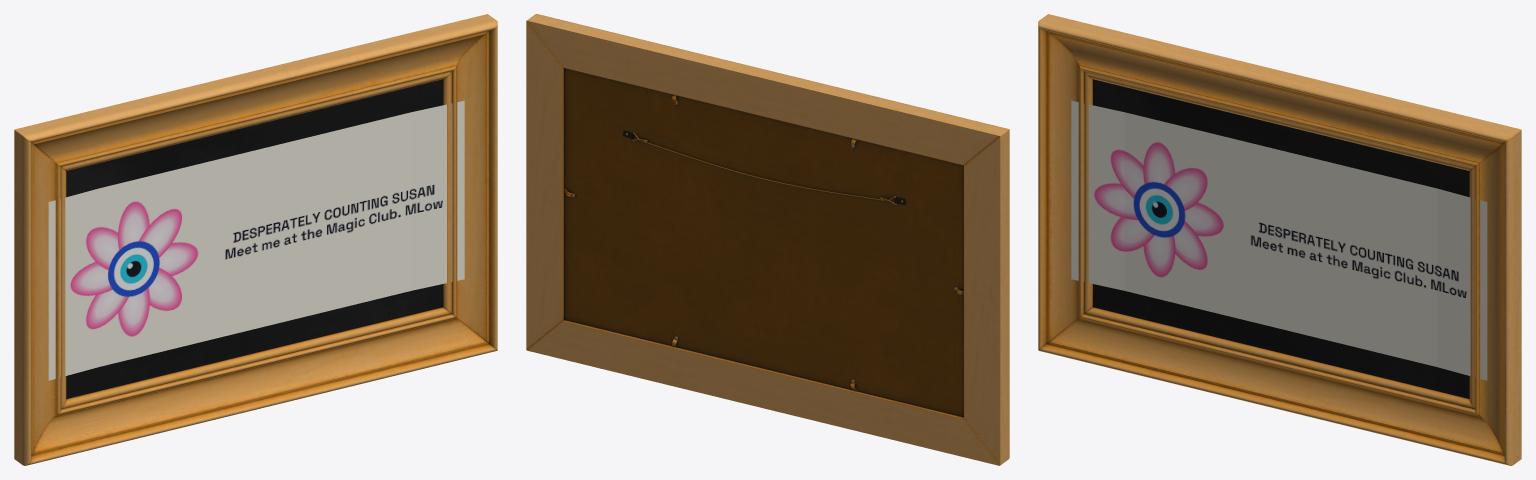
File: nyb_susan_ad.glb
3 renders of one model, left to right at view 1: azimuth 30°, elevation 25°; view 2: azimuth 150°, elevation 25°; view 3: azimuth 330°, elevation 25°, orthographic.
Parts seen in each view (by area): view 1: hanging_picture_frame_02, stk_lbl_dc90d5f0ca.png; view 2: hanging_picture_frame_02; view 3: hanging_picture_frame_02, stk_lbl_dc90d5f0ca.png.
Boxes of the visible parts, x1,y1,x2,y2 form: hanging_picture_frame_02: [14, 14, 497, 465]; stk_lbl_dc90d5f0ca.png: [48, 100, 464, 380]; hanging_picture_frame_02: [526, 14, 1009, 465]; hanging_picture_frame_02: [1038, 14, 1521, 465]; stk_lbl_dc90d5f0ca.png: [1071, 100, 1487, 380].
Size of the model in its own units: 0.7518 by 0.5 by 0.0331.
Materials: 4 (4 with a texture image).
